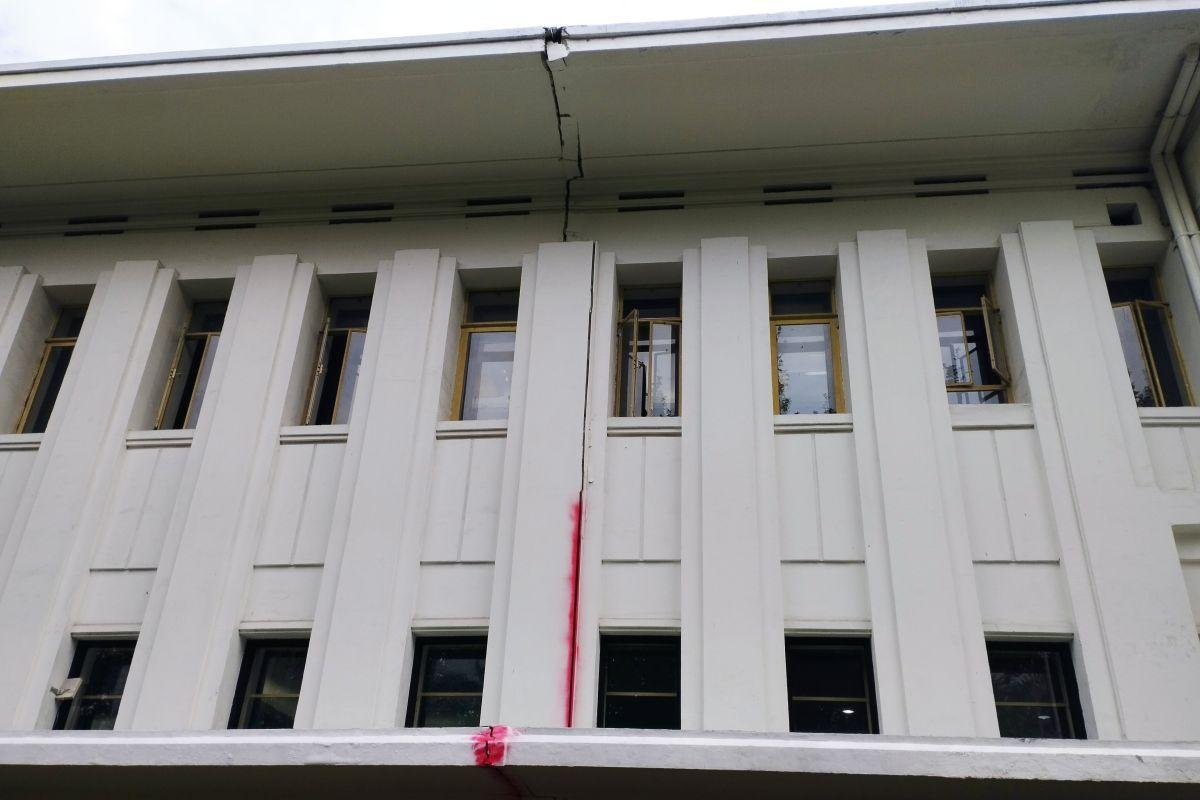Crack: (562, 244, 616, 734), (532, 20, 604, 246)
